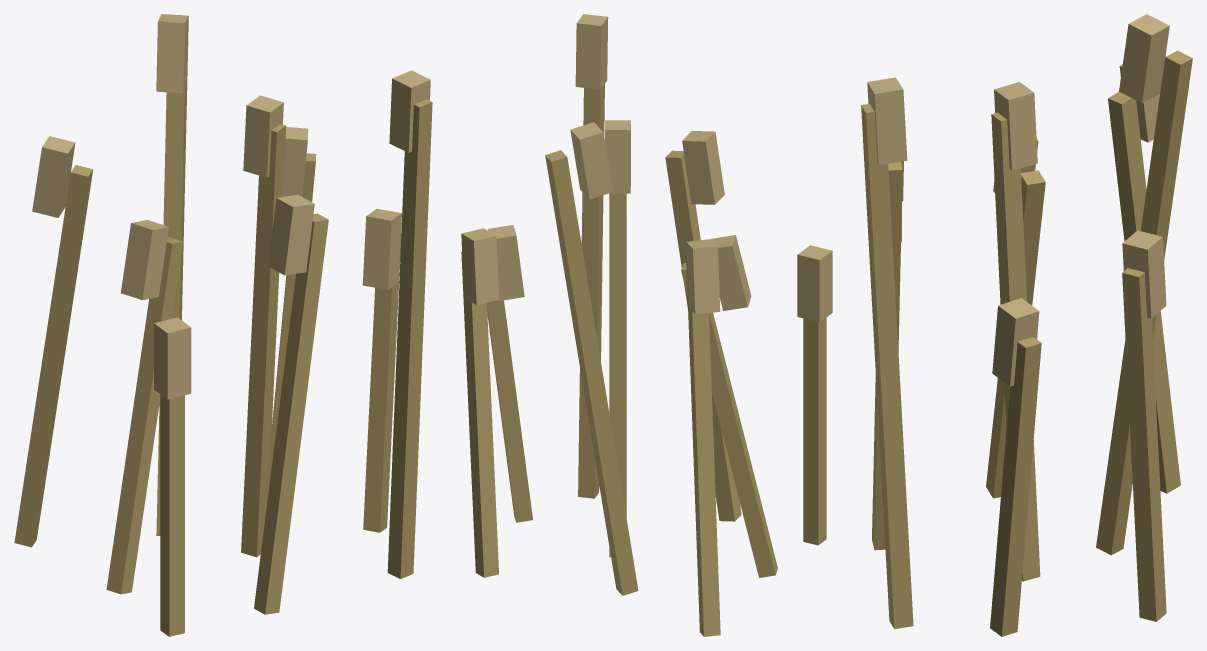
File: loc_shared_nat_reeds.glb
The picture shows the model from 3 angles, left to right: view 1: azimuth 30°, elevation 25°; view 2: azimuth 150°, elevation 25°; view 3: azimuth 270°, elevation 25°; orthographic projection. The views are drawn at different scales.
Visible parts, largest first — view 1: stalk_2, stalk_1, stalk_4, stalk_6, stalk_3, stalk_5, stalk_0, stalk_7, head_1, head_3, head_0, head_5 (+6 smaller); view 2: stalk_7, stalk_6, stalk_8, stalk_0, stalk_3, stalk_4, stalk_2, stalk_5, stalk_1, head_0, head_8, head_1 (+6 smaller); view 3: stalk_2, stalk_8, stalk_7, stalk_5, stalk_6, stalk_4, stalk_3, head_7, stalk_1, head_4, head_2, head_5 (+2 smaller).
Part boxes in pixels (x1,y1,x2,y2): stalk_2: (387, 99, 432, 578); stalk_1: (254, 213, 328, 614); stalk_4: (241, 124, 286, 557); stalk_6: (14, 165, 93, 547); stalk_3: (106, 237, 183, 594); stalk_5: (363, 234, 401, 532); stalk_0: (160, 394, 184, 636); stalk_7: (156, 86, 187, 535); head_1: (268, 194, 314, 275); head_3: (121, 220, 168, 300); head_0: (154, 317, 191, 399); head_5: (362, 208, 401, 289); stalk_7: (545, 150, 638, 595); stalk_6: (686, 255, 720, 636); stalk_8: (461, 251, 498, 577); stalk_0: (803, 317, 826, 545); stalk_3: (681, 263, 777, 577); stalk_4: (609, 193, 626, 557); stalk_2: (578, 84, 604, 498); stalk_5: (487, 300, 532, 522); stalk_1: (665, 150, 741, 521); head_0: (797, 245, 832, 322); head_8: (461, 228, 499, 304); head_1: (682, 131, 724, 204); stalk_2: (861, 104, 913, 628); stalk_8: (1122, 268, 1166, 621); stalk_7: (1096, 50, 1192, 555); stalk_5: (990, 337, 1041, 636); stalk_6: (1108, 91, 1180, 493); stalk_4: (991, 112, 1040, 581); stalk_3: (986, 170, 1045, 498); head_7: (1119, 14, 1169, 102); stalk_1: (872, 161, 902, 550); head_4: (994, 82, 1037, 170); head_2: (867, 77, 907, 164); head_5: (992, 298, 1039, 386).
Size of the model in its own units: 0.8134 by 1.21 by 0.6711.
